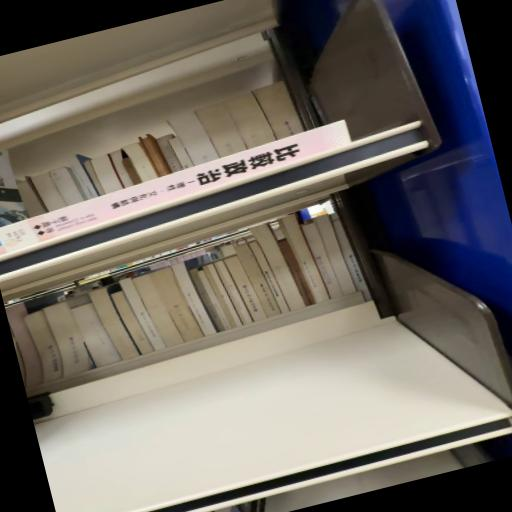flat: (1, 122, 352, 258)
